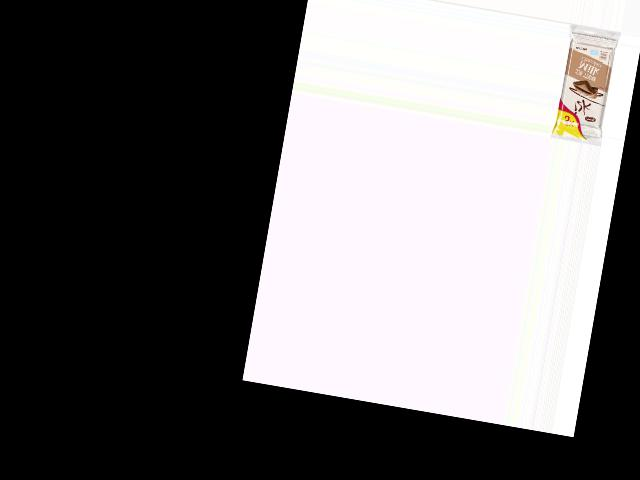chocolate: (551, 34, 619, 146)
